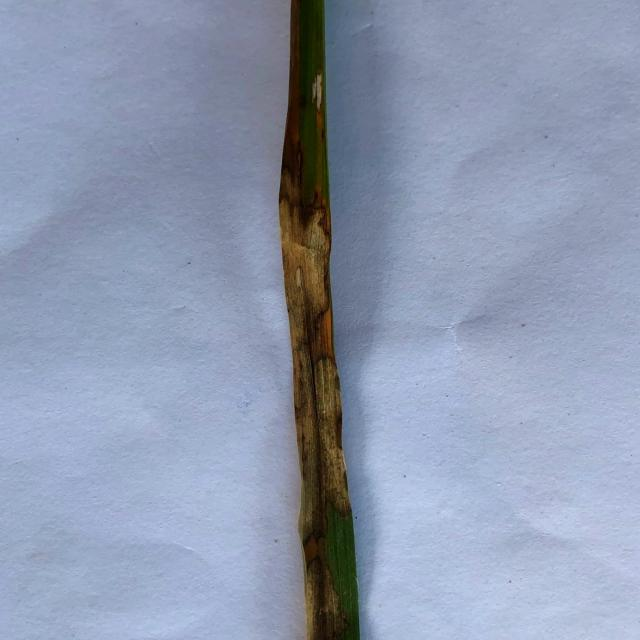leaf blight: (277, 178, 355, 529), (300, 543, 350, 640), (306, 65, 324, 119)
